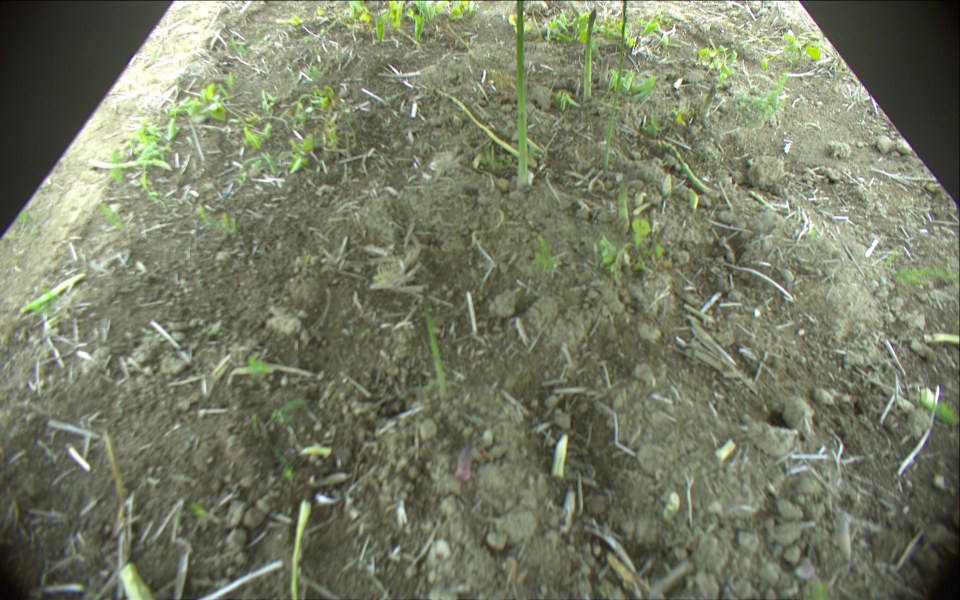aspa: (431, 83, 538, 166), (604, 1, 627, 165), (420, 286, 446, 401), (23, 272, 85, 314), (665, 139, 711, 193), (515, 1, 528, 189), (289, 498, 310, 600), (583, 6, 597, 101), (619, 167, 640, 225), (120, 563, 151, 600), (90, 156, 170, 170), (455, 438, 471, 483), (554, 436, 567, 479), (701, 80, 715, 116), (596, 51, 609, 87), (689, 187, 700, 211)
